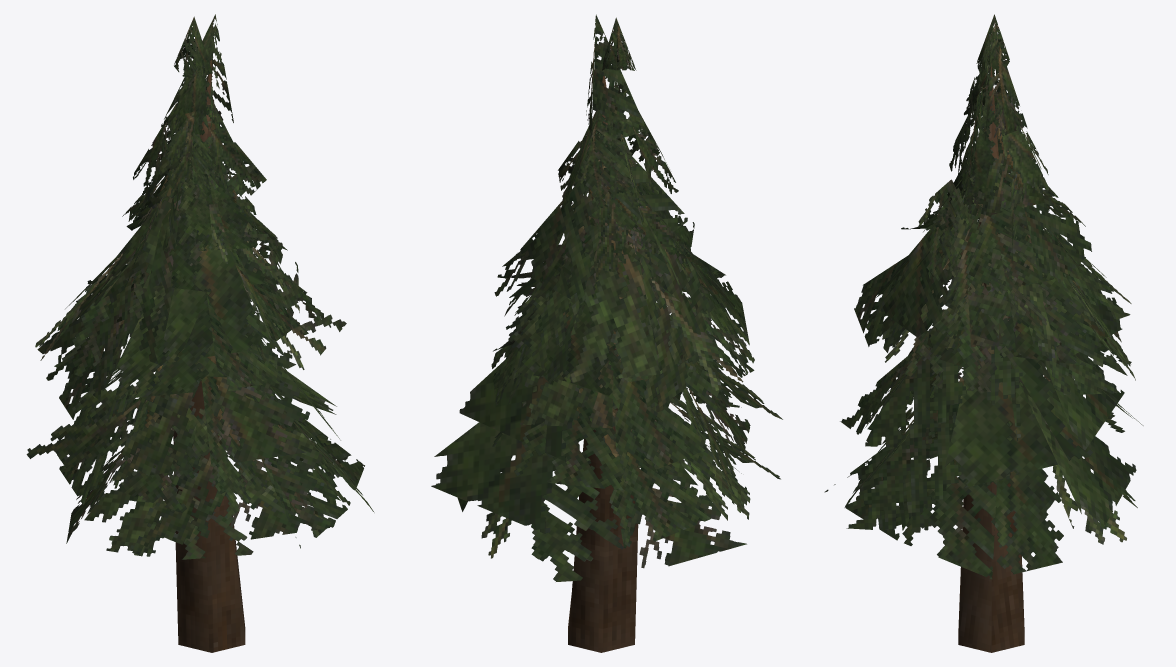
Rendered from tree_1.fbx.
3 renders of one model, left to right at view 1: azimuth 30°, elevation 25°; view 2: azimuth 150°, elevation 25°; view 3: azimuth 270°, elevation 25°, orthographic.
Parts seen in each view (by area): view 1: tree_1; view 2: tree_1; view 3: tree_1.
Part boxes in pixels (bbox=[...]): tree_1: bbox=[26, 14, 374, 652]; tree_1: bbox=[431, 14, 782, 652]; tree_1: bbox=[824, 14, 1143, 652].
Size of the model in its own units: 633 by 591 by 1183.
